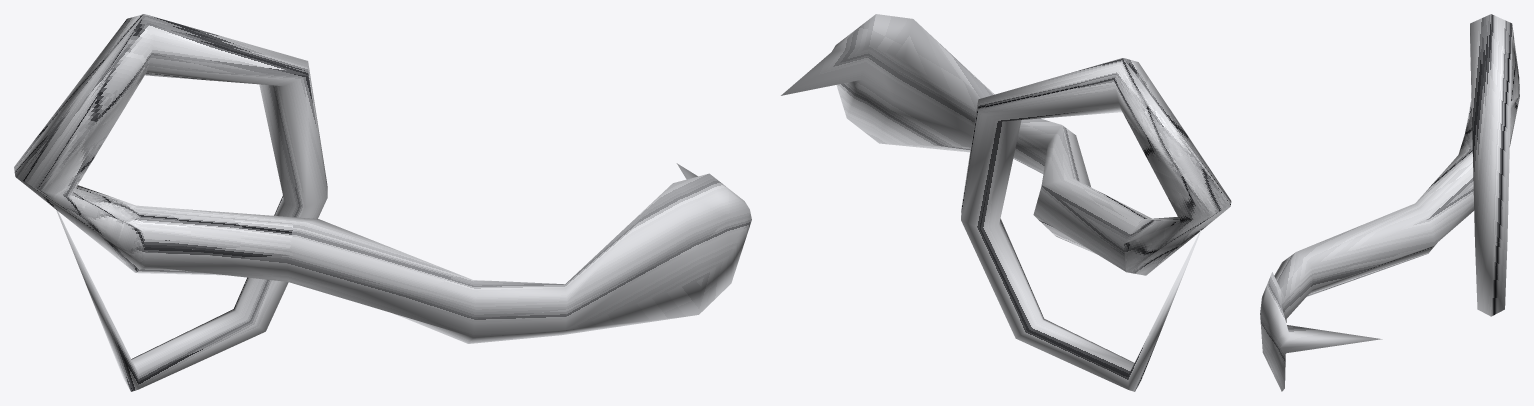
Rendered from snake_000037.obj.
The picture shows the model from 3 angles, left to right: view 1: azimuth 30°, elevation 25°; view 2: azimuth 150°, elevation 25°; view 3: azimuth 270°, elevation 25°; orthographic projection. The views are drawn at different scales.
Visible parts, largest first — view 1: Cylinder; view 2: Cylinder; view 3: Cylinder.
Part boxes in pixels (<box>): Cylinder: <box>14,14,751,391</box>; Cylinder: <box>781,14,1231,391</box>; Cylinder: <box>1260,14,1519,391</box>.
Bounding box in the file's own units: 4.04 × 2.44 × 2.04.
